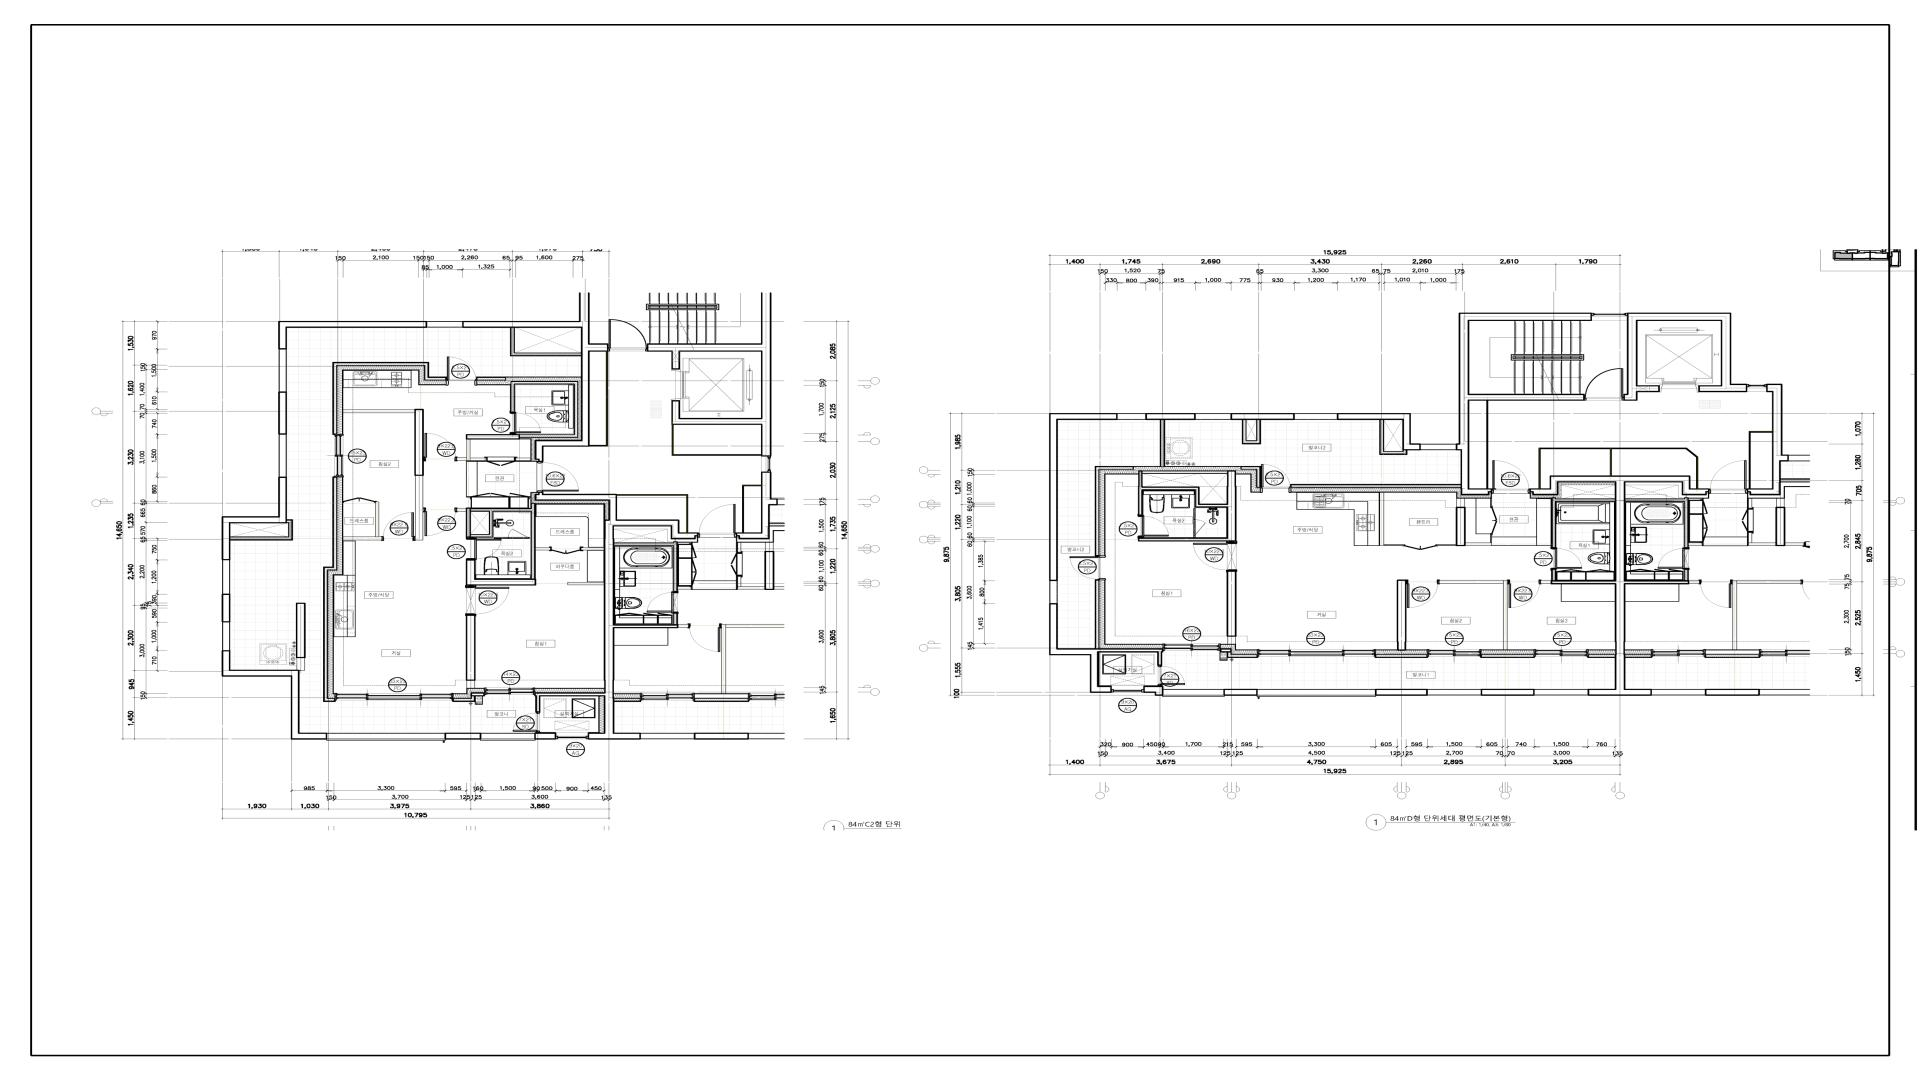door: (1492, 460, 1531, 494), (538, 462, 580, 492), (466, 586, 509, 615), (1193, 542, 1237, 570), (1586, 368, 1623, 400), (1508, 580, 1541, 608), (1406, 580, 1439, 607), (423, 433, 457, 459), (382, 513, 414, 540), (425, 509, 456, 536), (1070, 557, 1105, 579), (1261, 464, 1290, 488), (447, 357, 477, 380), (1138, 515, 1169, 537), (1551, 549, 1583, 568), (513, 413, 541, 434), (475, 539, 502, 559), (513, 713, 540, 732), (1193, 507, 1206, 538), (507, 529, 530, 538), (551, 547, 580, 554), (1404, 543, 1436, 549), (343, 498, 376, 503)
wall: (534, 492, 699, 740), (1531, 475, 1710, 696), (1456, 313, 1592, 495), (463, 293, 608, 462), (647, 292, 772, 457), (1049, 413, 1118, 581), (1624, 313, 1748, 401), (343, 409, 424, 540), (1049, 604, 1163, 693), (221, 650, 328, 740), (332, 362, 447, 435), (1138, 470, 1237, 542), (470, 503, 552, 580), (221, 477, 287, 560), (1747, 383, 1789, 495), (278, 321, 427, 349), (510, 381, 578, 438), (1095, 466, 1134, 556), (1550, 498, 1614, 549), (323, 477, 337, 702), (1337, 413, 1421, 450), (736, 471, 778, 539), (510, 328, 581, 356), (466, 559, 536, 586), (342, 502, 382, 541), (230, 519, 293, 541), (1379, 420, 1408, 455), (1226, 571, 1237, 637), (1290, 484, 1461, 488), (466, 613, 476, 680), (1397, 579, 1406, 650), (296, 603, 306, 658), (1242, 420, 1261, 445), (1240, 466, 1261, 488), (1230, 413, 1295, 420), (1456, 507, 1466, 546), (1481, 689, 1535, 696), (1375, 689, 1428, 696), (1138, 538, 1228, 542), (1145, 413, 1196, 420), (1503, 580, 1508, 650), (278, 393, 286, 435), (1379, 493, 1385, 546), (456, 440, 471, 461), (1095, 579, 1099, 649), (466, 434, 520, 439), (445, 733, 482, 740), (1141, 471, 1227, 474), (1439, 580, 1503, 584), (1160, 420, 1165, 467), (1224, 689, 1257, 696), (222, 594, 230, 622), (1144, 685, 1164, 696), (1480, 654, 1535, 658), (1375, 654, 1428, 658), (535, 732, 557, 740), (1226, 653, 1258, 658), (453, 696, 476, 702), (466, 508, 470, 539), (476, 376, 506, 380), (1588, 654, 1615, 658), (296, 658, 305, 670), (568, 582, 604, 585), (580, 547, 604, 551), (1456, 499, 1465, 507), (514, 457, 531, 461), (1551, 569, 1557, 580), (1227, 637, 1236, 644), (467, 681, 475, 688), (471, 457, 485, 461), (1220, 648, 1231, 652), (471, 693, 485, 696), (1541, 580, 1551, 584), (457, 508, 466, 512)
window: (1258, 649, 1375, 658), (1258, 689, 1376, 697), (327, 733, 445, 741), (336, 693, 453, 701), (1163, 689, 1224, 697), (1535, 649, 1587, 657), (1163, 644, 1220, 651), (481, 733, 535, 740), (334, 435, 343, 477), (1428, 689, 1481, 696), (1535, 689, 1587, 696), (1428, 649, 1480, 656), (279, 434, 287, 478), (485, 688, 534, 695), (279, 350, 287, 392), (1295, 413, 1337, 420), (222, 560, 230, 594), (427, 321, 463, 328), (1196, 413, 1231, 420), (222, 622, 230, 651), (557, 732, 588, 739), (1421, 444, 1456, 450), (1117, 413, 1146, 420), (1049, 581, 1058, 603)
